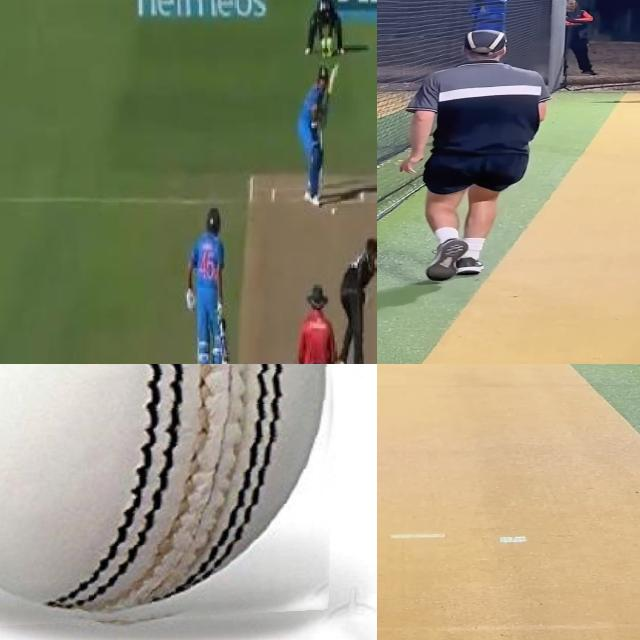Cricket ball: (0, 364, 342, 633), (330, 205, 340, 217)
